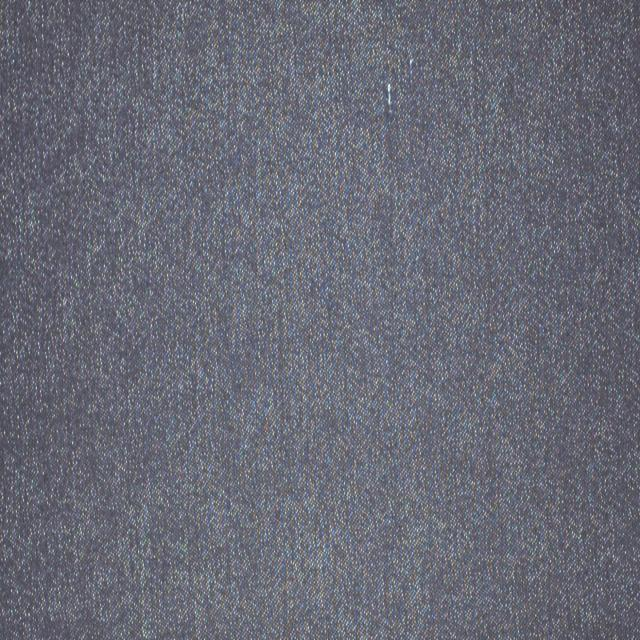Knot: (387, 81, 393, 114), (409, 53, 415, 84)
